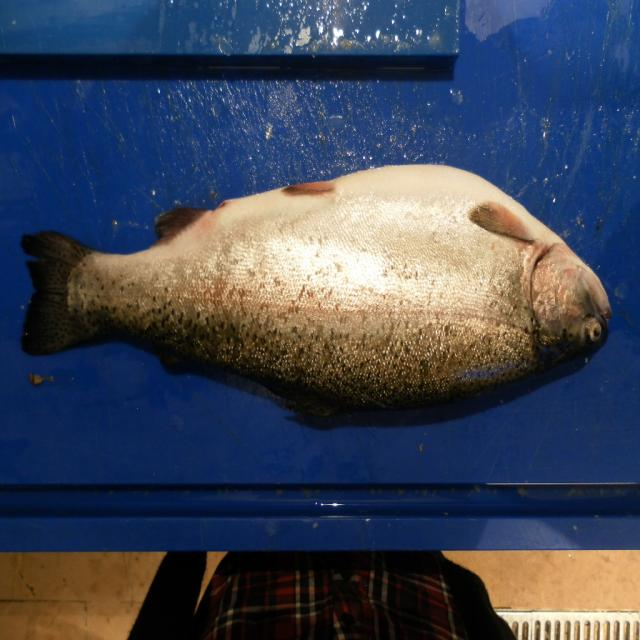Trout-alabalik-: (20, 164, 612, 420)
